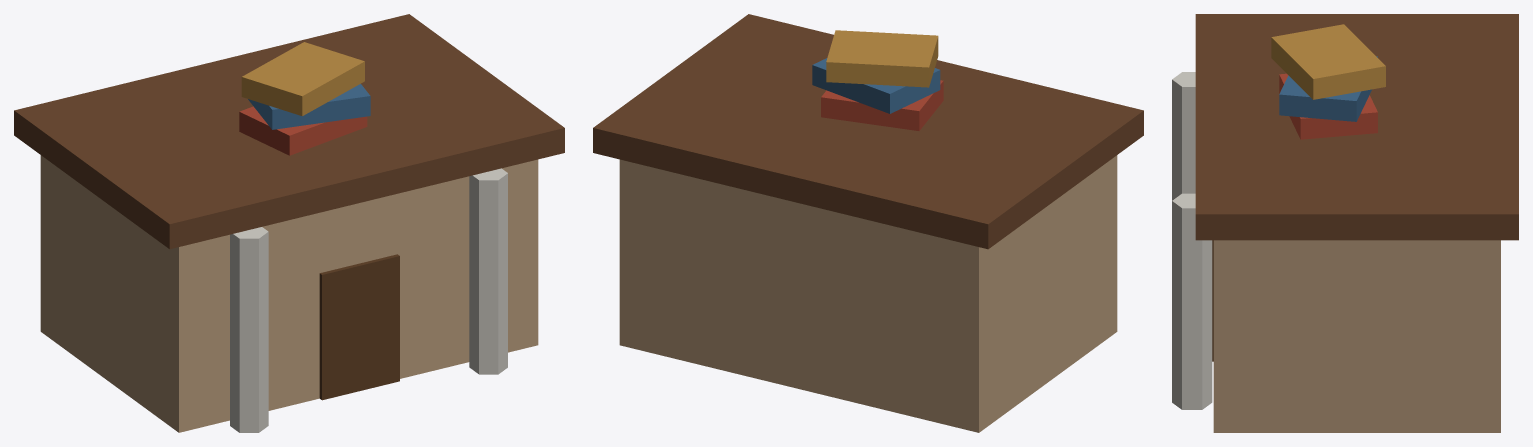
File: library.glb
3 renders of one model, left to right at view 1: azimuth 30°, elevation 25°; view 2: azimuth 150°, elevation 25°; view 3: azimuth 270°, elevation 25°, orthographic. The views are drawn at different scales.
Parts seen in each view (by area): view 1: library; view 2: library; view 3: library.
Part boxes in pixels (x1,y1,x2,y2): library: [14, 14, 564, 432]; library: [593, 14, 1143, 432]; library: [1172, 14, 1518, 432].
Size of the model in its own units: 0.33 by 0.223 by 0.2415.
